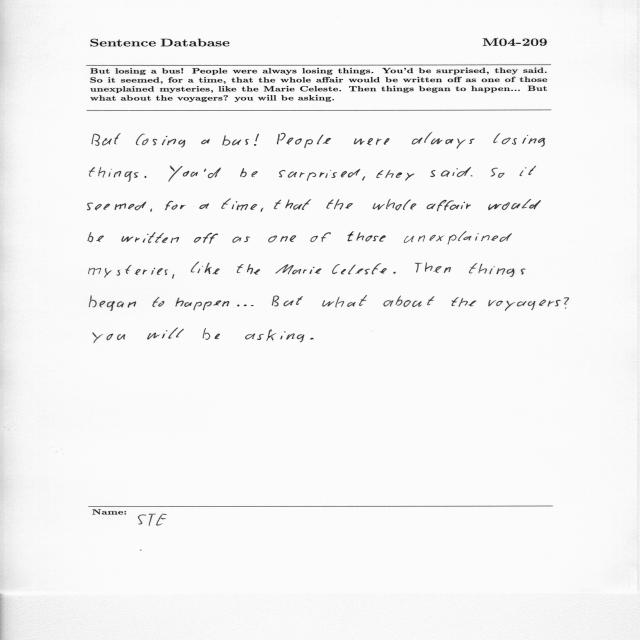word: (404, 231, 512, 245), (412, 132, 474, 149), (89, 265, 168, 278), (279, 169, 360, 181), (277, 133, 331, 148), (488, 300, 561, 311), (469, 263, 525, 277), (245, 330, 304, 343), (89, 295, 136, 311), (89, 167, 139, 182), (176, 298, 229, 311), (494, 134, 546, 147), (122, 232, 180, 243), (136, 134, 185, 147), (332, 264, 387, 275), (488, 199, 541, 210), (384, 296, 435, 307), (322, 296, 367, 308), (88, 202, 147, 211), (426, 200, 471, 211), (373, 199, 417, 210), (168, 166, 198, 182), (276, 264, 322, 274), (376, 170, 415, 181), (348, 231, 386, 242), (431, 167, 472, 177), (274, 199, 311, 210), (147, 328, 184, 339), (221, 199, 257, 210), (92, 133, 121, 146), (415, 263, 451, 273), (93, 333, 125, 344), (191, 262, 220, 274), (272, 296, 303, 307), (222, 135, 249, 146), (326, 199, 353, 210), (194, 233, 218, 244), (237, 264, 260, 275), (354, 138, 390, 145), (452, 297, 477, 307), (310, 232, 331, 242), (203, 328, 220, 340), (268, 236, 296, 243), (204, 168, 221, 179), (165, 201, 185, 210), (520, 166, 537, 176), (240, 168, 258, 177), (88, 232, 104, 242), (491, 168, 505, 178), (232, 236, 250, 243), (153, 297, 165, 307), (254, 133, 259, 146), (199, 203, 209, 209), (564, 298, 569, 309), (201, 139, 210, 144), (237, 305, 254, 307), (363, 176, 366, 181), (261, 208, 264, 212), (172, 274, 174, 279), (150, 208, 152, 212), (393, 272, 396, 274), (310, 338, 313, 340), (145, 176, 147, 178), (470, 176, 473, 177)
